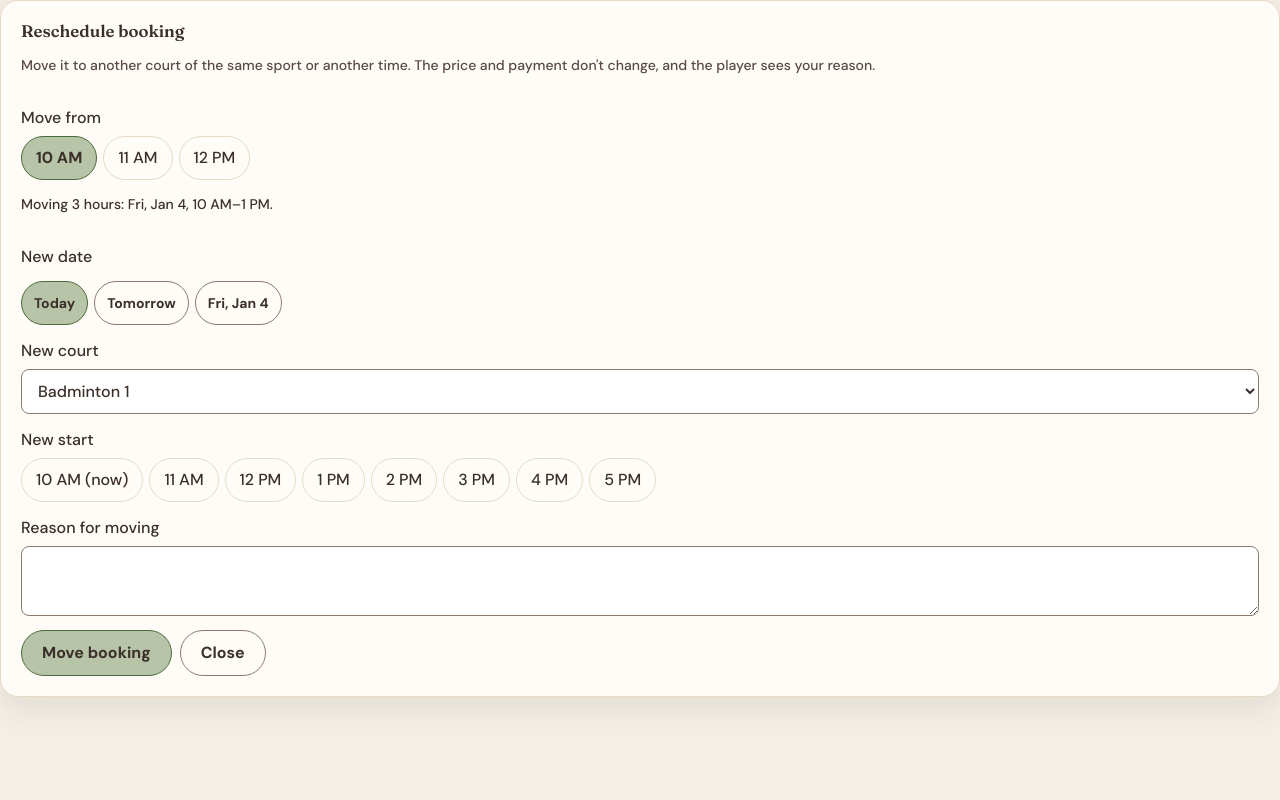
Test case: RescheduleForm › offers the hour in progress and later hours to move from once the booking has started
This screenshot has width=1280, height=800.
Expected: the radio button labelled "10 AM" is checked, left=21, top=136, right=97, bottom=180
What coordinates should you click on to do the following:
click the radio button labelled "11 AM" below "Move from"
I would click on:
 (138, 158)
Its box is left=103, top=136, right=172, bottom=180.
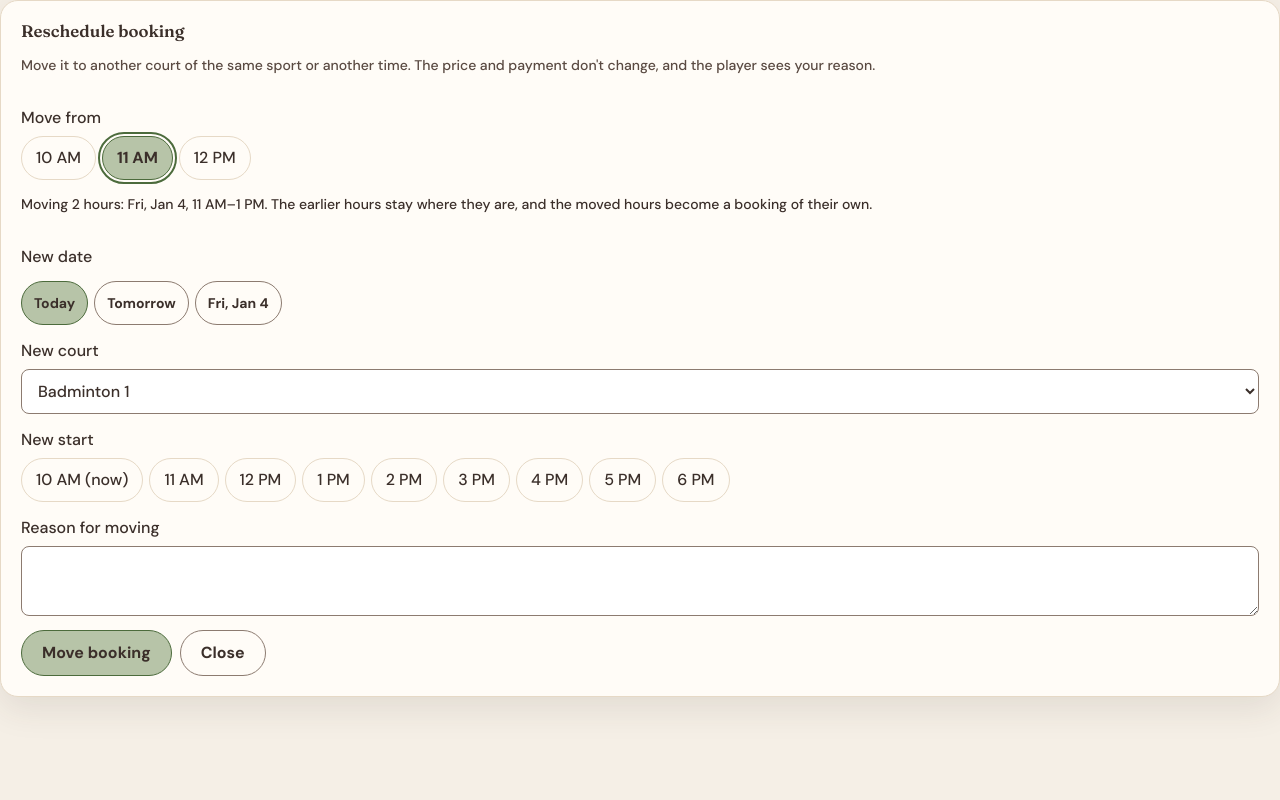
Result: the form "Reschedule booking" shows "Moving 2 hours: Fri, Jan 4, 11 AM–1 PM."
Result: the form "Reschedule booking" shows "The earlier hours stay where they are, and the moved hours become a booking of their own." at left=267, top=195, right=872, bottom=213
